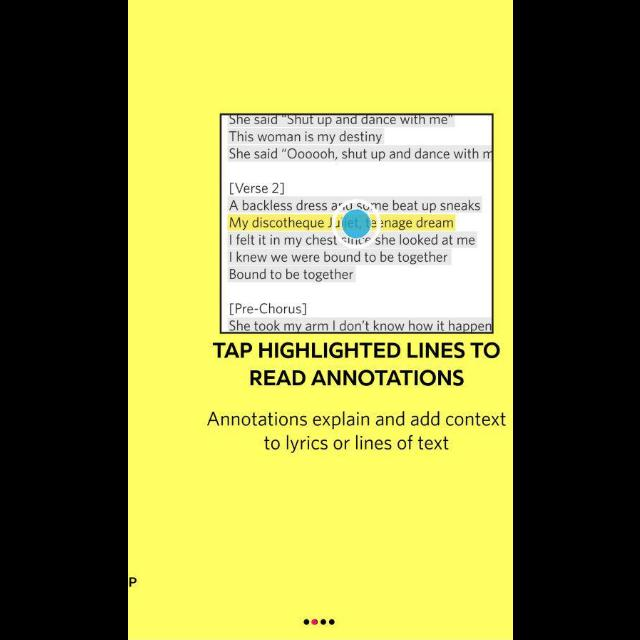image: (218, 113, 494, 334)
pageindicator: (303, 618, 335, 626)
text: (212, 342, 500, 386), (207, 411, 506, 453)
